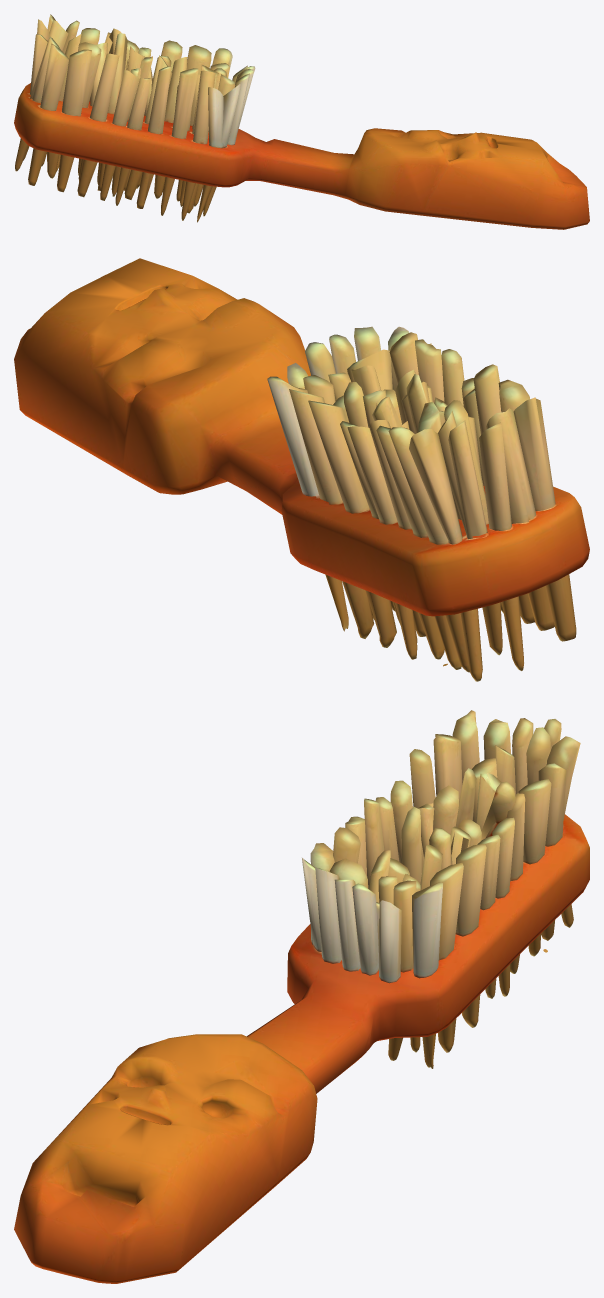
The picture shows the model from 3 angles, top to bottom: view 1: azimuth 30°, elevation 25°; view 2: azimuth 150°, elevation 25°; view 3: azimuth 270°, elevation 25°; orthographic projection. The views are drawn at different scales.
Size of the model in its own units: 0.9995 by 0.3931 by 0.7515.
Materials: 1 (1 with a texture image).
